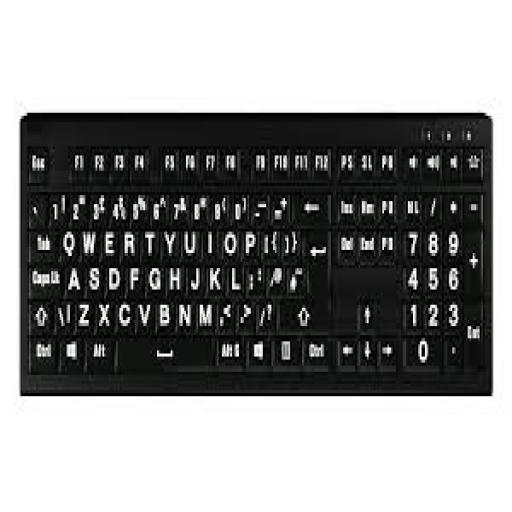keyboard: (19, 113, 492, 393)
